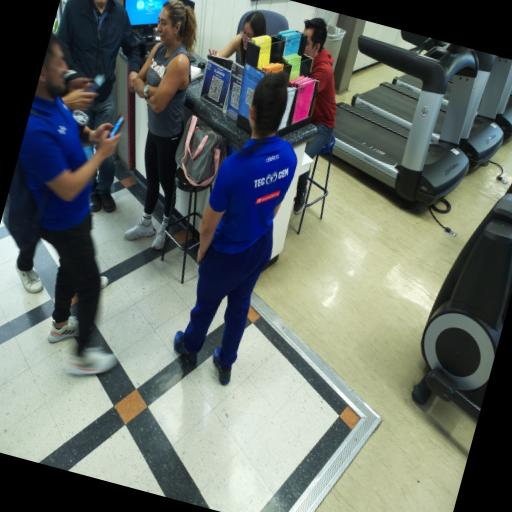person: (174, 73, 297, 384), (18, 35, 120, 374), (125, 0, 196, 249), (58, 0, 140, 129), (303, 18, 336, 158), (209, 11, 266, 65)
